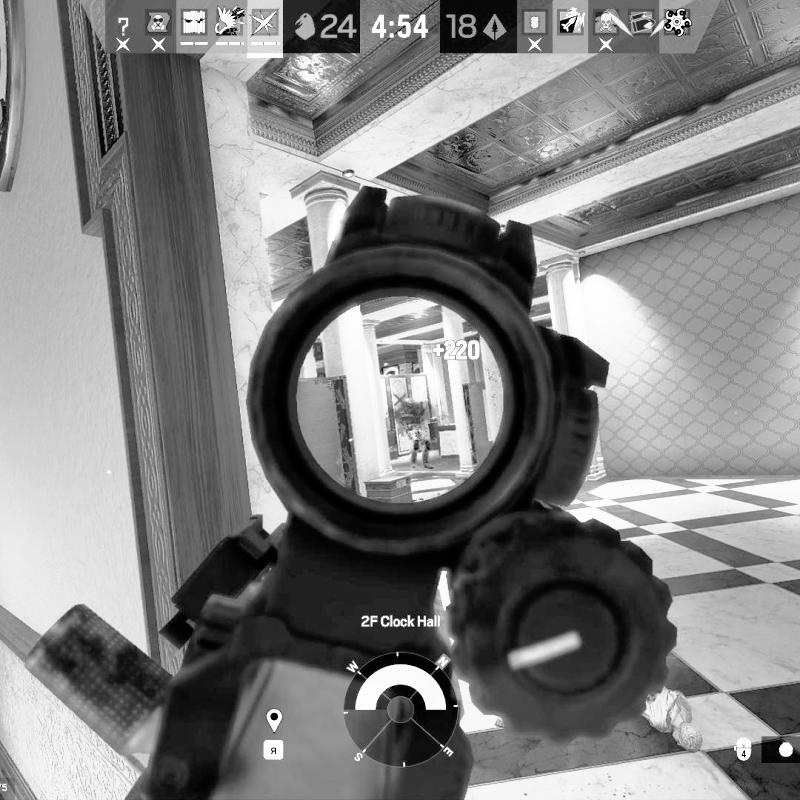Character: (403, 398, 439, 471)
